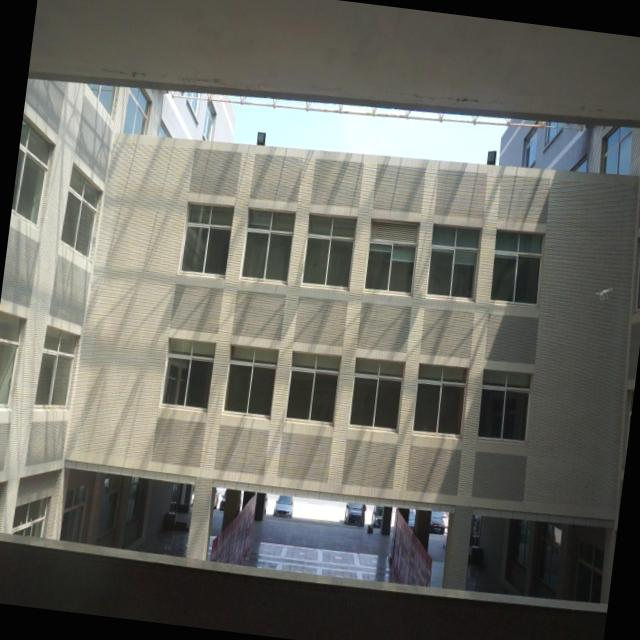drone: (592, 280, 616, 306)
